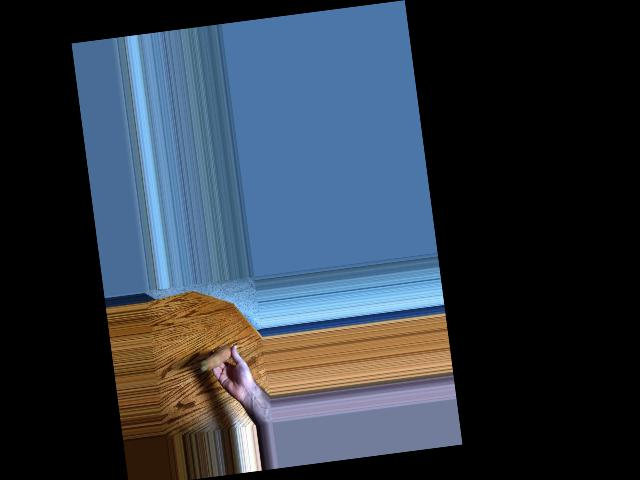sweet_potato: (197, 345, 236, 373)
